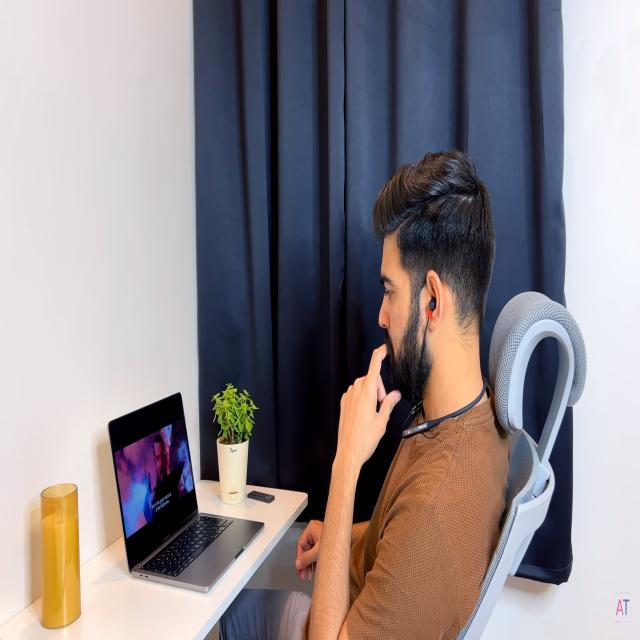Neckband: (399, 297, 487, 439)
